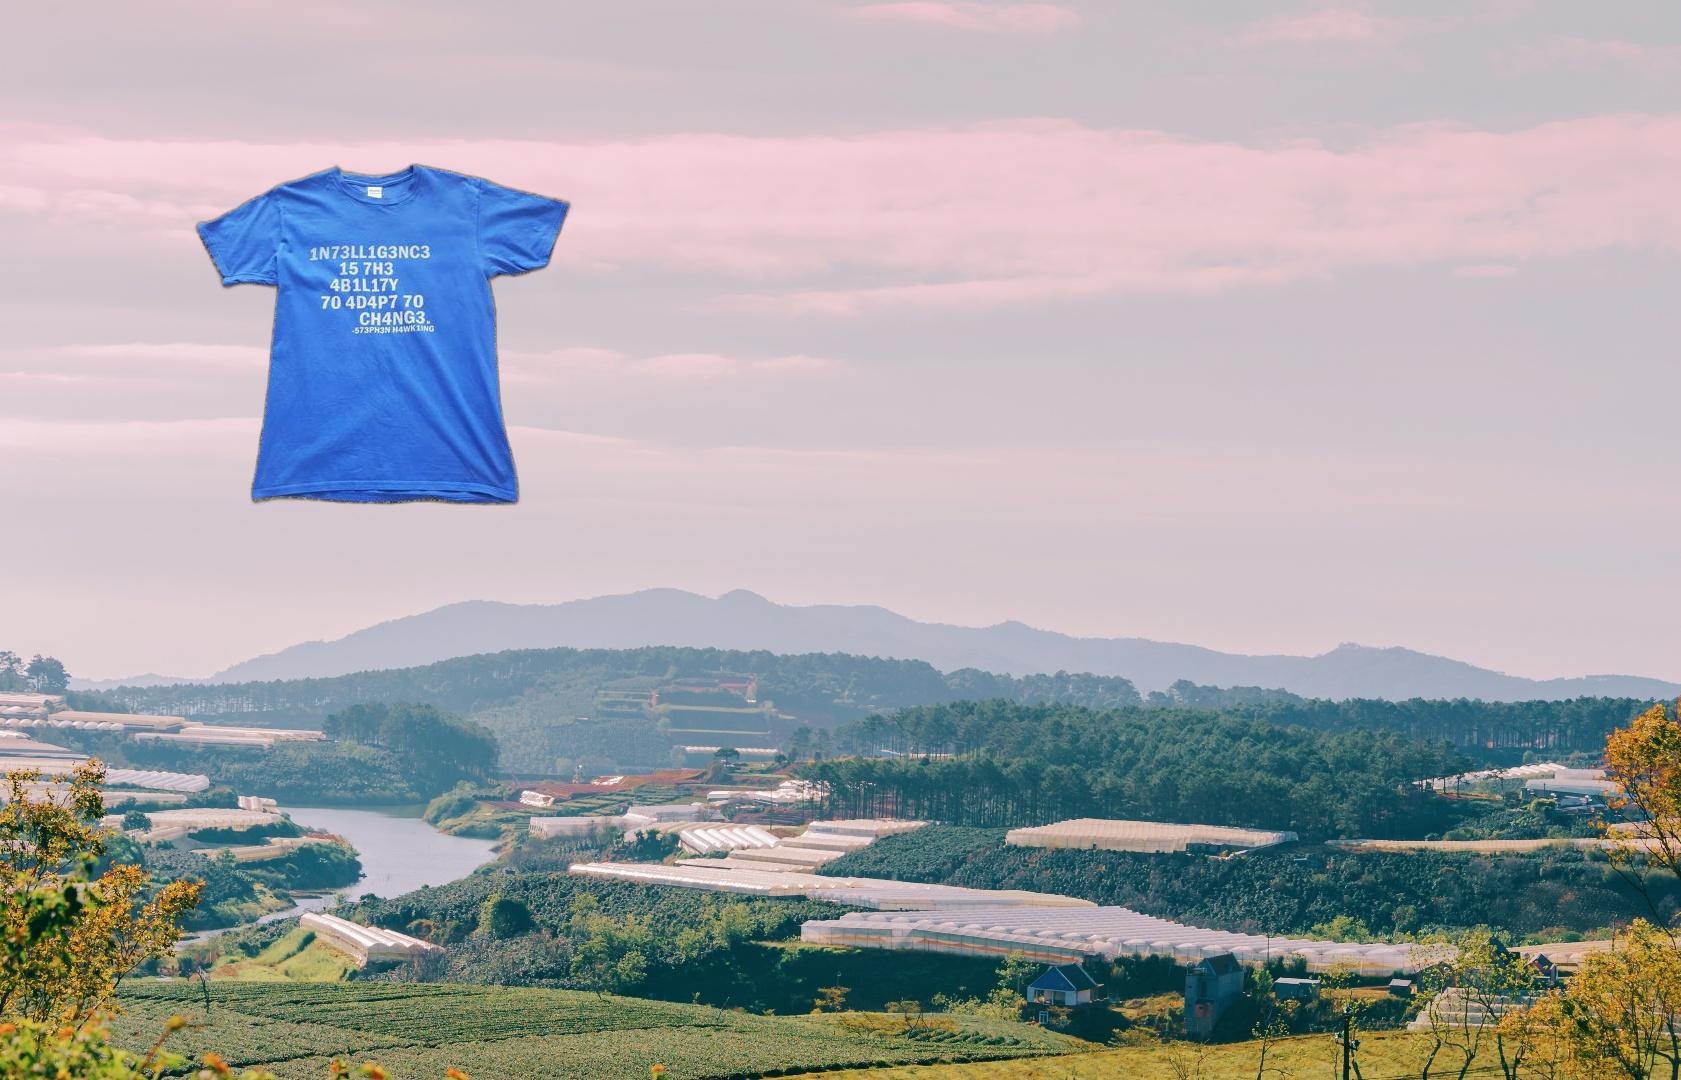clothes: (194, 161, 573, 509)
